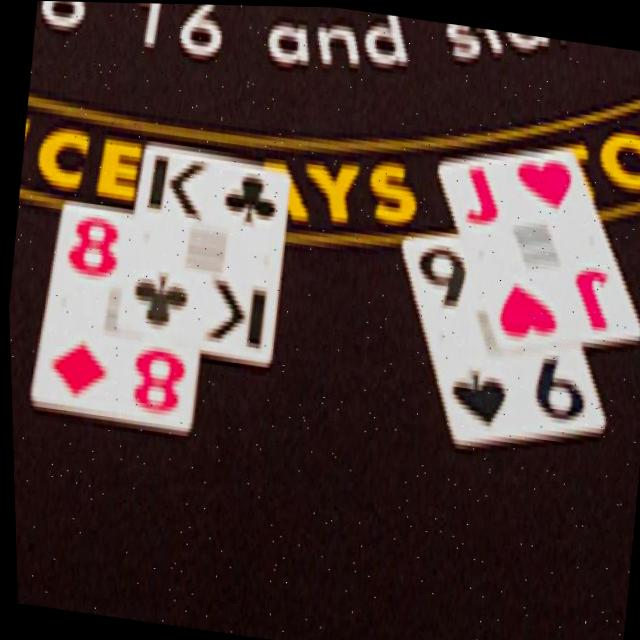Card-8: (28, 202, 197, 429)
Card-9: (400, 231, 602, 442)
Card-J: (437, 147, 640, 344)
Card-K: (115, 141, 289, 364)
